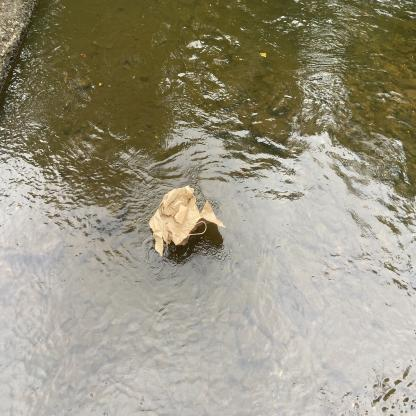trash: (143, 184, 230, 262)
